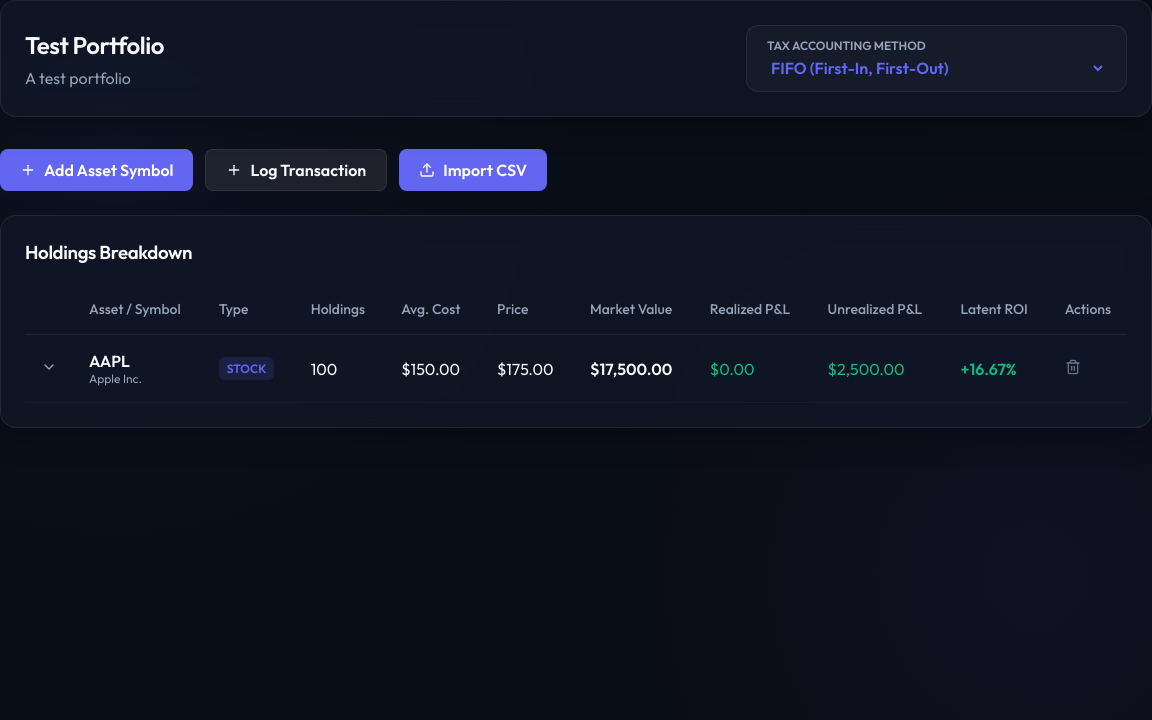
Scenario: PortfolioDetail › includes ISIN field in the Add Asset modal
Click the button "Add Asset Symbol" at (97, 170), box [0,149,193,191]
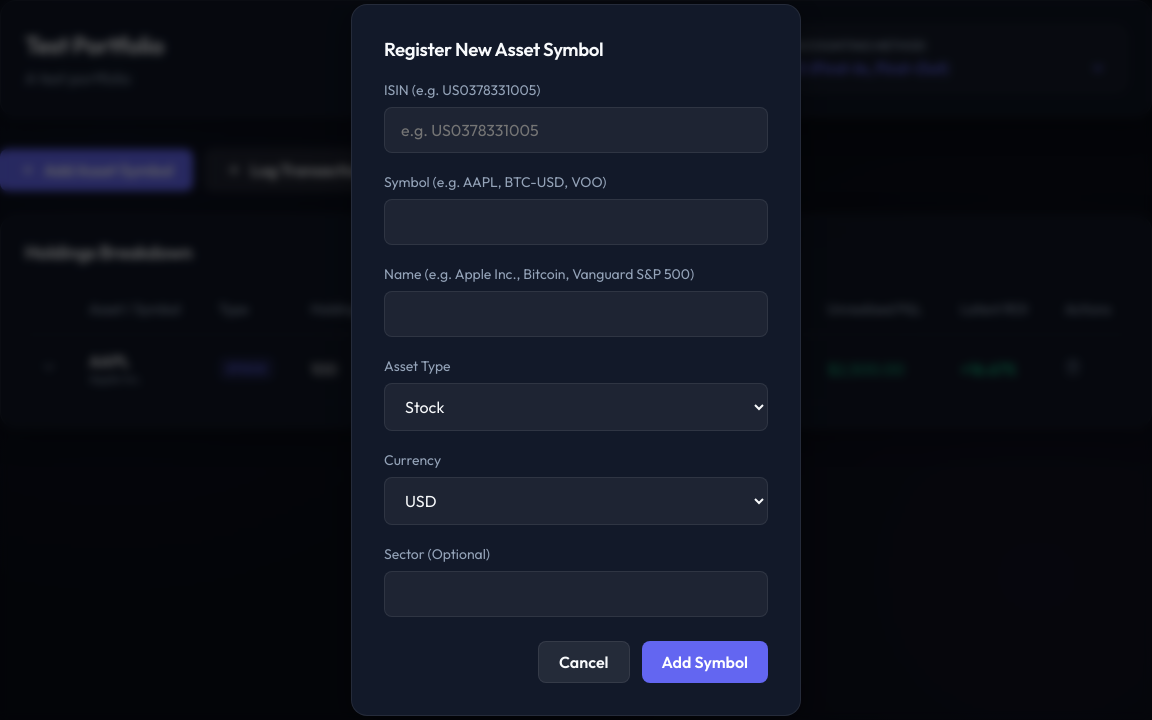
expect the field with placeholder "e.g. US0378331005" is shown: met, box [384,107,768,153]
